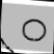no answer: (17, 16, 50, 48)
